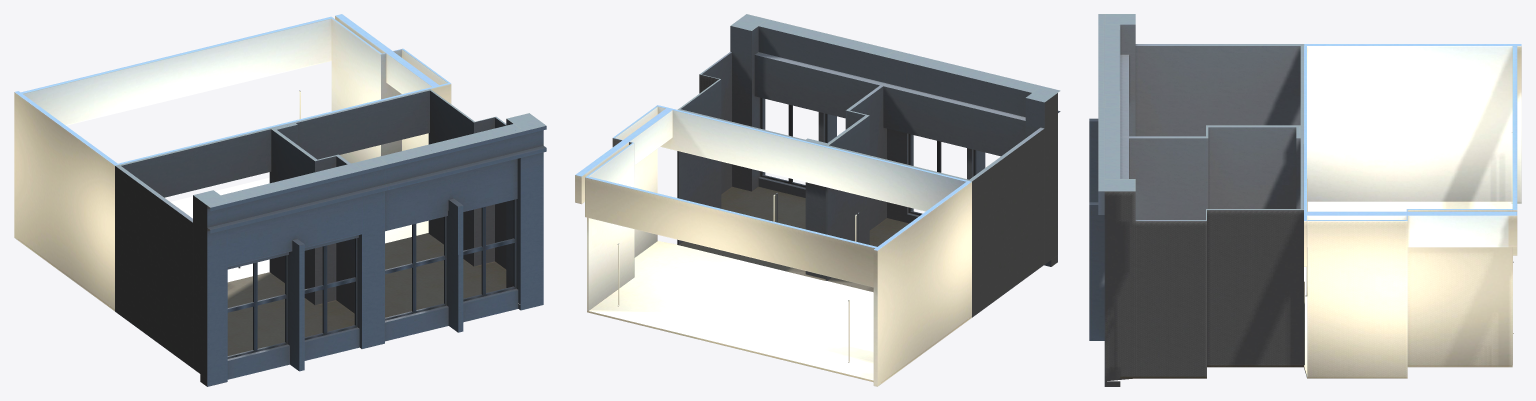
The picture shows the model from 3 angles, left to right: view 1: azimuth 30°, elevation 25°; view 2: azimuth 150°, elevation 25°; view 3: azimuth 270°, elevation 25°; orthographic projection. The views are drawn at different scales.
Parts seen in each view (by area): view 1: hc_2floor_room021_2, hc_2floor_room022_3, hc_2floor_room020_1; view 2: hc_2floor_room022_3, hc_2floor_room021_2, hc_2floor_room020_1; view 3: hc_2floor_room022_3, hc_2floor_room020_1, hc_2floor_room021_2.
Boxes of the visible parts, left/top/right/bottom form: hc_2floor_room021_2: left=115, top=127, right=387, bottom=386; hc_2floor_room022_3: left=14, top=14, right=451, bottom=311; hc_2floor_room020_1: left=272, top=89, right=546, bottom=341; hc_2floor_room022_3: left=575, top=105, right=971, bottom=386; hc_2floor_room021_2: left=825, top=50, right=1060, bottom=317; hc_2floor_room020_1: left=677, top=14, right=894, bottom=280; hc_2floor_room022_3: left=1304, top=44, right=1521, bottom=378; hc_2floor_room020_1: left=1089, top=107, right=1304, bottom=386; hc_2floor_room021_2: left=1089, top=14, right=1303, bottom=202.
Bounding box in the file's own units: 0.953 × 0.4911 × 0.9825.
Materials: 3 (3 with a texture image).
